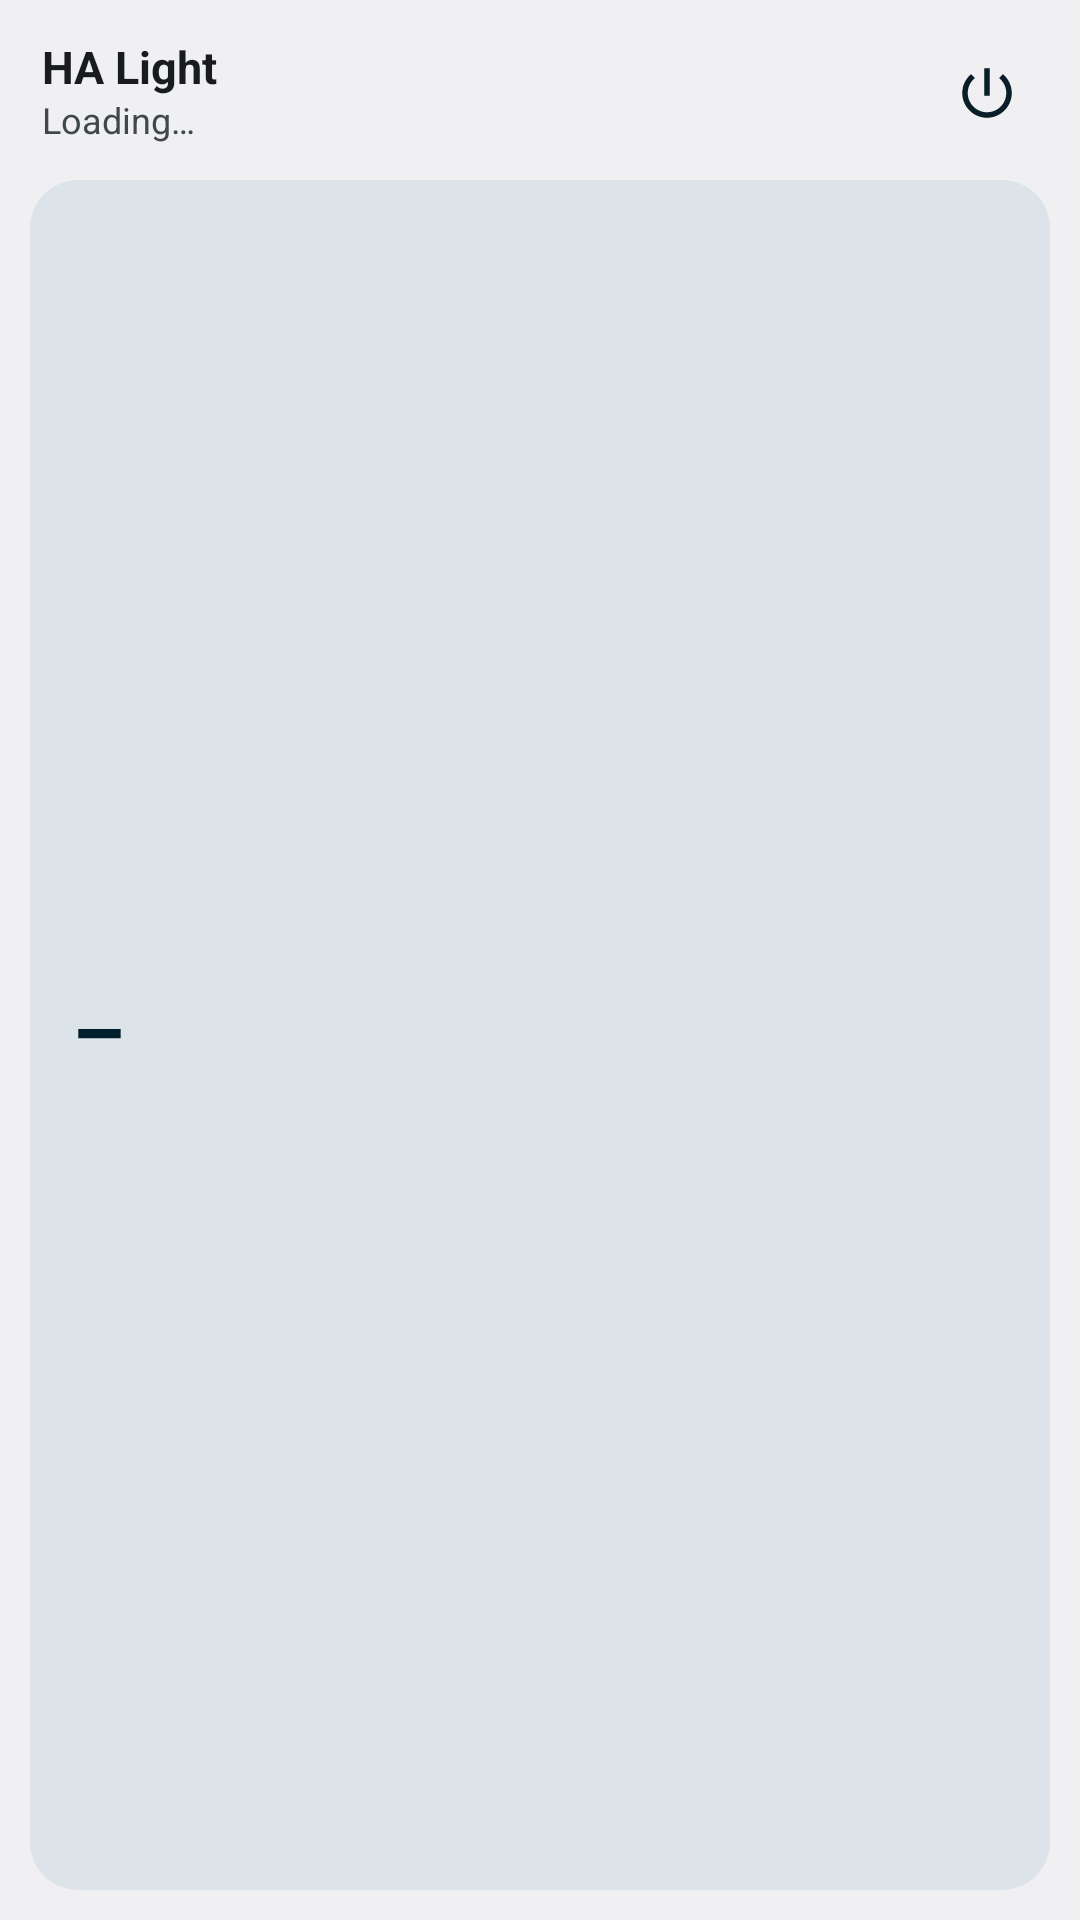

Where to tap for icons on this 1080×1920 app screen, as point (x, y):
Turn light on: point (987, 93)
